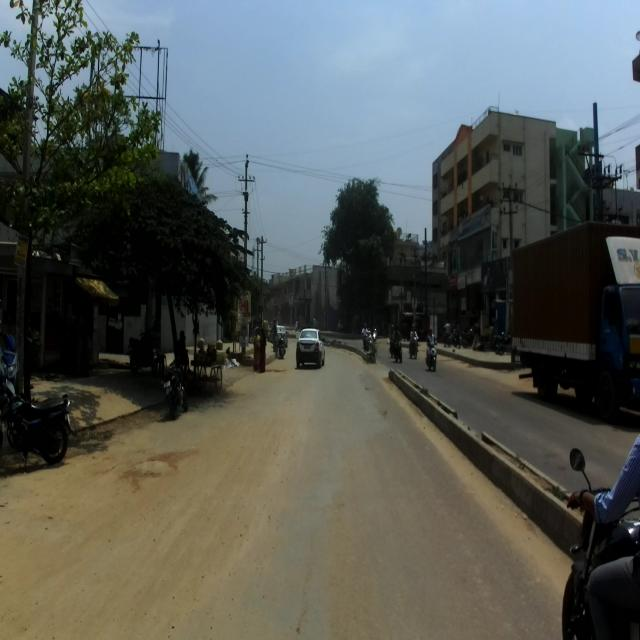car: (296, 327, 326, 368)
motorcycle: (0, 370, 74, 470), (161, 358, 187, 418)
scooter: (0, 328, 20, 399)
truck: (511, 222, 640, 418)
